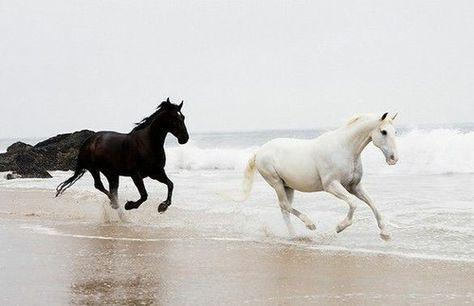horse: (240, 110, 399, 241), (54, 96, 189, 222)
